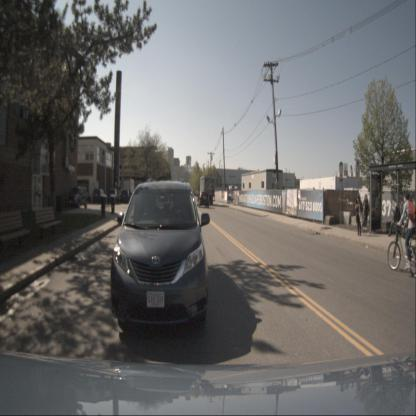human-pedestrian-adult: (388, 203, 401, 237), (355, 196, 363, 236), (362, 194, 370, 232)
vehicle-bicycle: (387, 192, 416, 279)
vehicle-car: (111, 180, 210, 333), (66, 186, 89, 209), (93, 188, 108, 203), (197, 192, 209, 208), (107, 189, 118, 203), (120, 189, 130, 203)
vehicle-truck: (199, 175, 215, 206)
